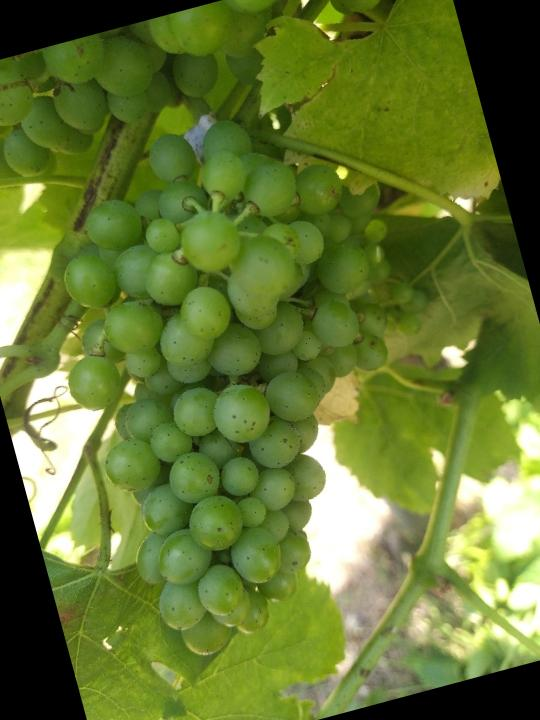grape: (5, 80, 486, 677)
